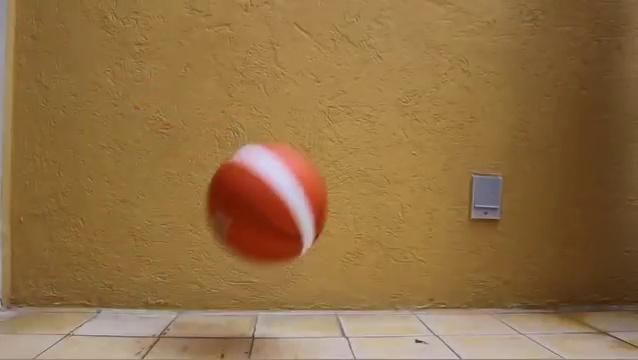ball: (206, 141, 327, 264)
